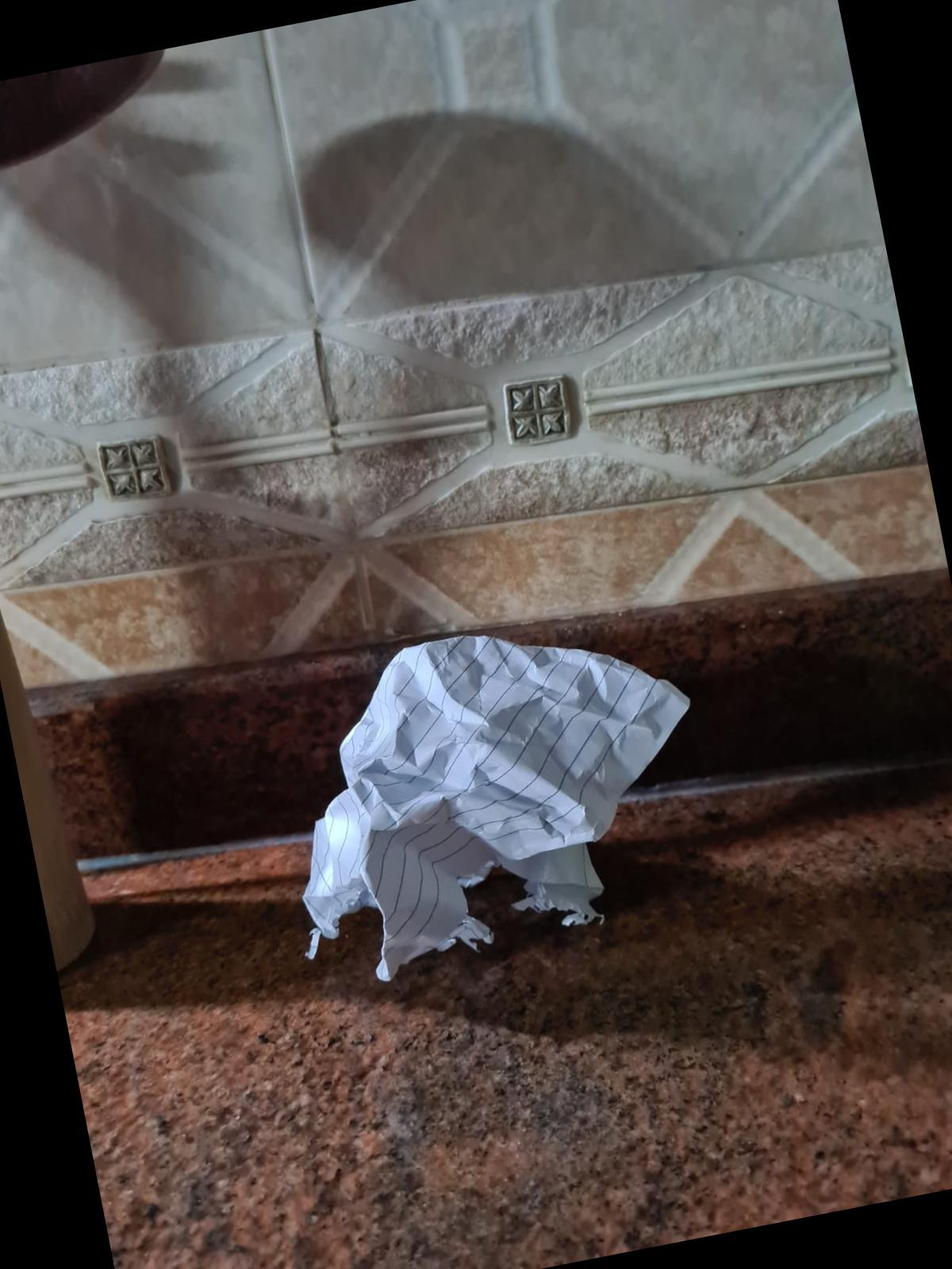Kertas: (290, 636, 705, 979)
